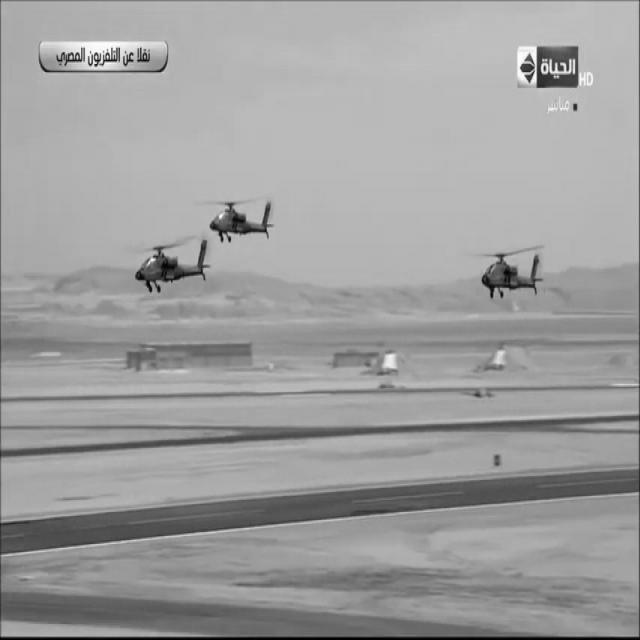helikopter: (118, 218, 218, 314), (462, 217, 559, 315), (214, 175, 298, 274)
